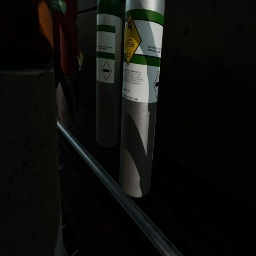0: (119, 0, 166, 198), (96, 0, 122, 148)
NitrogenTank ,: (52, 0, 74, 130), (72, 0, 80, 113)
